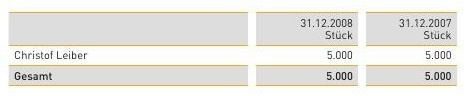table: (0, 0, 472, 96)
